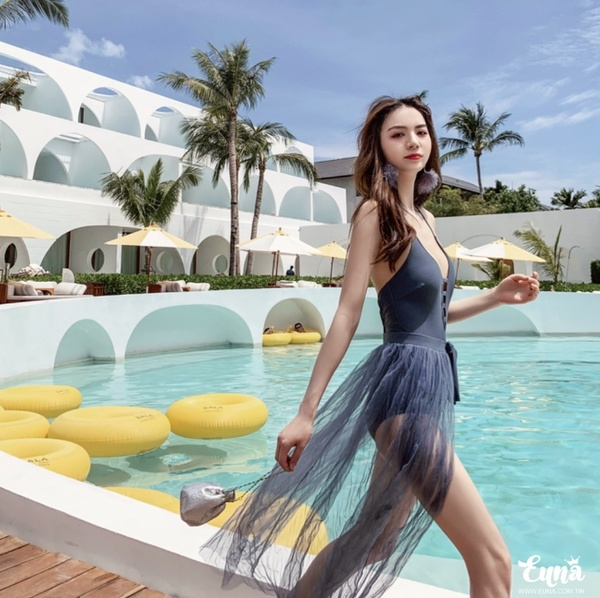people: (275, 96, 540, 598)
